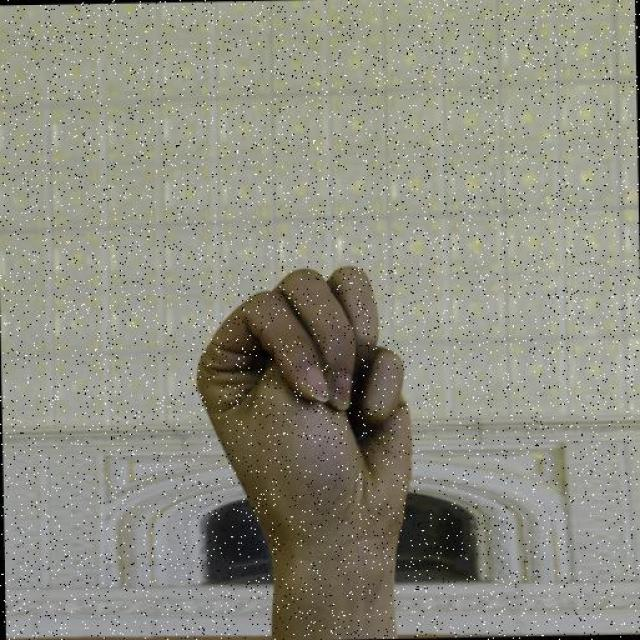M: (190, 260, 418, 561)
